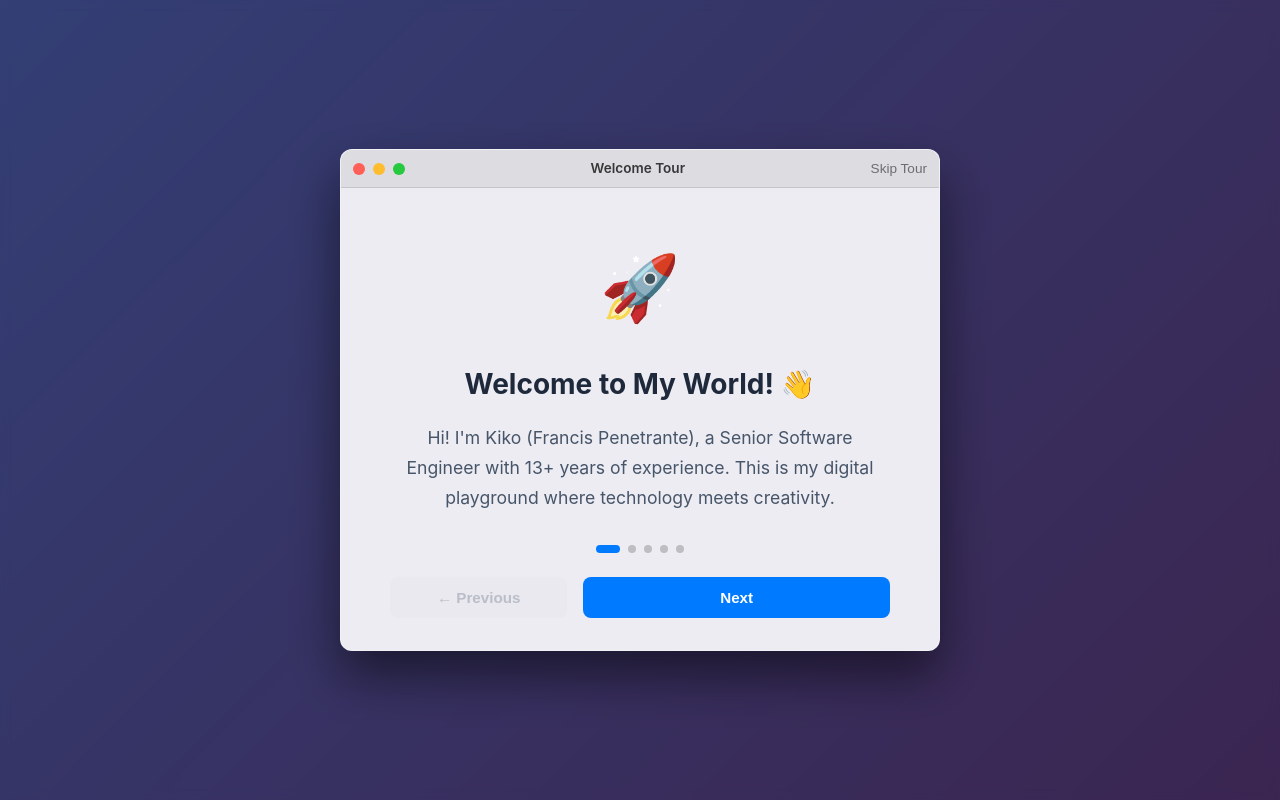
Test: WelcomeTour › navigates back to the previous slide
Click the button "Next": {"x": 737, "y": 598} [583, 577, 890, 618]
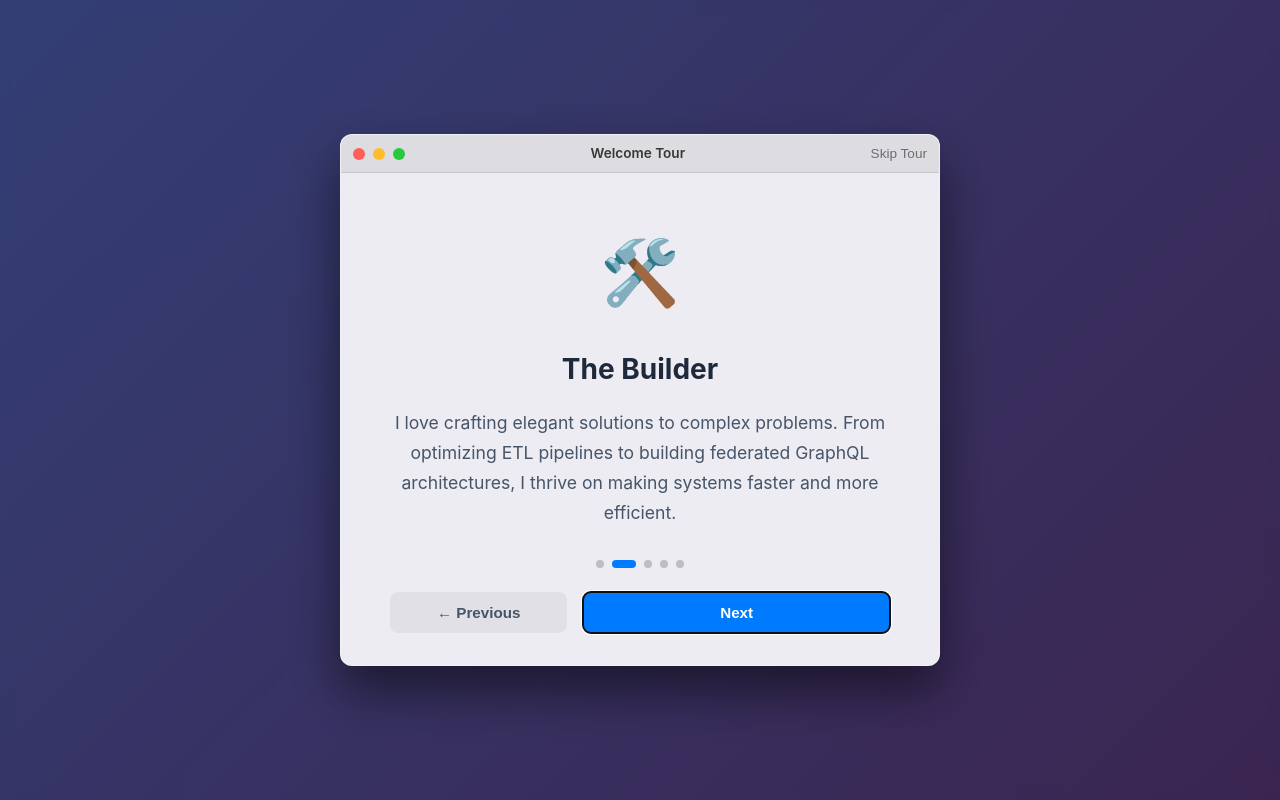
Expected: the heading "The Builder" is shown, [562, 348, 718, 392]
Click the button "← Previous": {"x": 479, "y": 612} [390, 592, 567, 633]
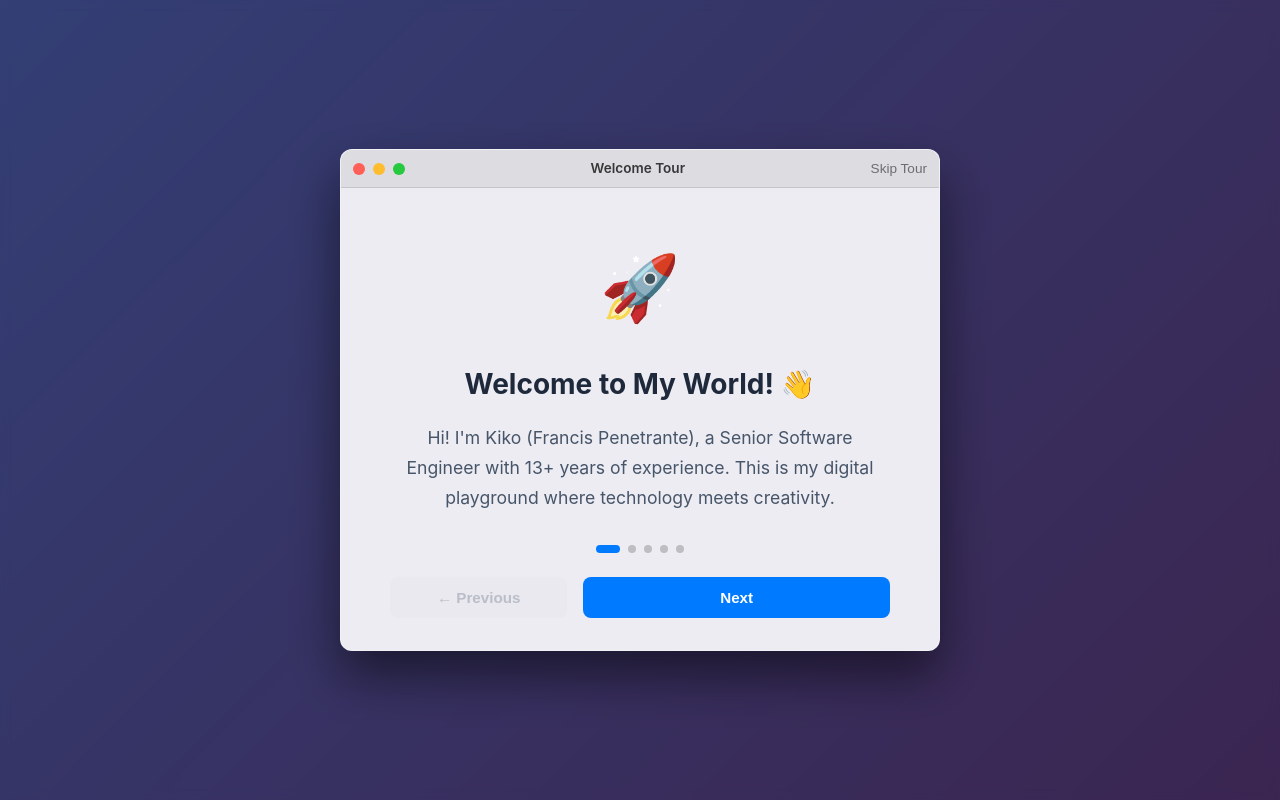
Expected: the heading "Welcome to My World! 👋" is shown, [464, 362, 816, 407]
